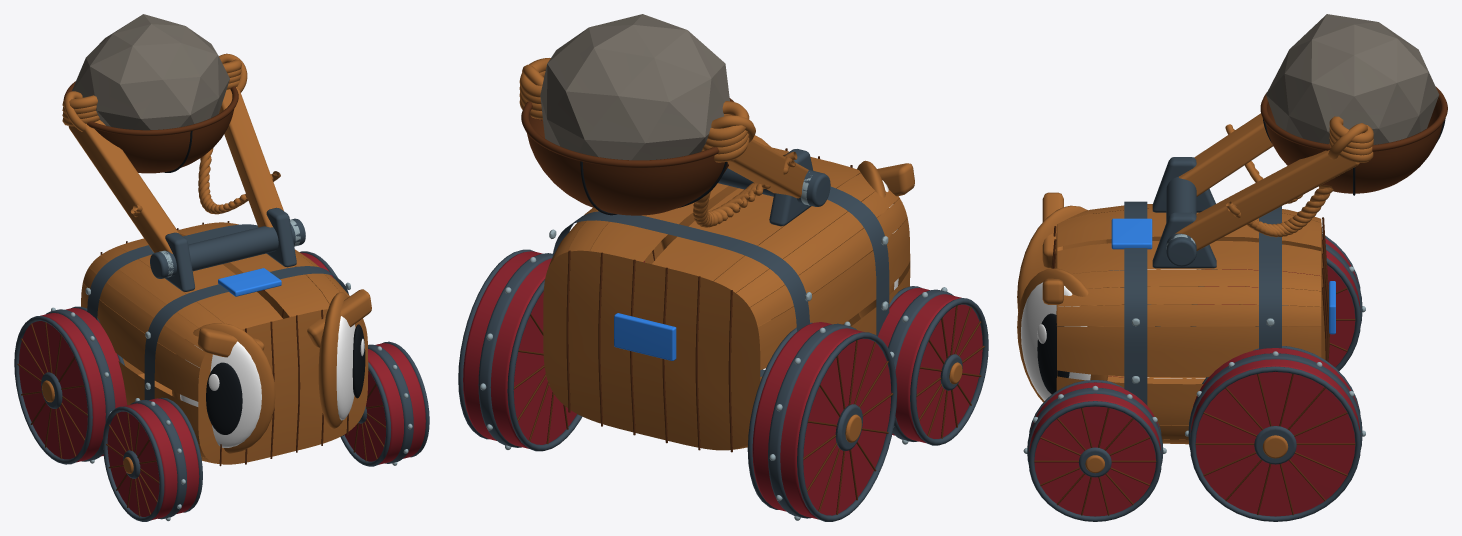
File: Catapult.fbx
3 views of the same model, side by side, from view 1: azimuth 30°, elevation 25°; view 2: azimuth 150°, elevation 25°; view 3: azimuth 270°, elevation 25° (orthographic). The views are drawn at different scales.
Parts seen in each view (by area): view 1: Faceted loaded boulder, Oak end face.001, Red timber wheel, Red timber wheel.001, Red timber wheel.003, Raised oak sling rail, Longitudinal oak stave.009, Raised oak sling rail.001, Deep leather sling, Cross shaft, Longitudinal oak stave.005, Longitudinal oak stave.004 (+28 smaller); view 2: Oak end face, Faceted loaded boulder, Red timber wheel, Red timber wheel.002, Red timber wheel.001, Deep leather sling, Longitudinal oak stave.009, Longitudinal oak stave.005, Flat forged barrel strap, Longitudinal oak stave.006, Longitudinal oak stave.008, Longitudinal oak stave.007 (+24 smaller); view 3: Red timber wheel.002, Faceted loaded boulder, Red timber wheel.003, Longitudinal oak stave, Raised oak sling rail.001, Longitudinal oak stave.001, Longitudinal oak stave.004, Deep leather sling, Flat forged barrel strap.001, Longitudinal oak stave.002, Longitudinal oak stave.003, Raised oak sling rail (+27 smaller).
Boxes of the visible parts, left/top/right/bottom form: Faceted loaded boulder: left=72, top=14, right=229, bottom=130; Oak end face.001: left=198, top=309, right=368, bottom=464; Red timber wheel: left=19, top=308, right=126, bottom=462; Red timber wheel.001: left=107, top=398, right=199, bottom=520; Red timber wheel.003: left=344, top=343, right=425, bottom=464; Raised oak sling rail: left=68, top=120, right=179, bottom=253; Longitudinal oak stave.009: left=81, top=283, right=199, bottom=401; Raised oak sling rail.001: left=219, top=87, right=283, bottom=227; Deep leather sling: left=95, top=109, right=234, bottom=173; Cross shaft: left=150, top=218, right=305, bottom=278; Longitudinal oak stave.005: left=118, top=238, right=282, bottom=329; Longitudinal oak stave.004: left=177, top=223, right=329, bottom=316; Oak end face: left=543, top=250, right=760, bottom=450; Faceted loaded boulder: left=540, top=14, right=729, bottom=160; Red timber wheel: left=752, top=322, right=891, bottom=519; Red timber wheel.002: left=463, top=251, right=576, bottom=448; Red timber wheel.001: left=878, top=287, right=982, bottom=443; Deep leather sling: left=527, top=113, right=728, bottom=215; Longitudinal oak stave.009: left=758, top=218, right=910, bottom=369; Longitudinal oak stave.005: left=652, top=157, right=860, bottom=280; Flat forged barrel strap: left=552, top=211, right=809, bottom=447; Longitudinal oak stave.006: left=714, top=173, right=874, bottom=292; Longitudinal oak stave.008: left=750, top=198, right=907, bottom=326; Longitudinal oak stave.007: left=736, top=189, right=899, bottom=306; Red timber wheel.002: left=1190, top=348, right=1360, bottom=516; Faceted loaded boulder: left=1266, top=14, right=1439, bottom=144; Red timber wheel.003: left=1029, top=382, right=1161, bottom=516; Longitudinal oak stave: left=1057, top=326, right=1321, bottom=377; Raised oak sling rail.001: left=1175, top=144, right=1359, bottom=250; Longitudinal oak stave.001: left=1057, top=304, right=1321, bottom=326; Longitudinal oak stave.004: left=1057, top=241, right=1321, bottom=275; Deep leather sling: left=1265, top=99, right=1442, bottom=193; Flat forged barrel strap.001: left=1124, top=201, right=1147, bottom=405; Longitudinal oak stave.002: left=1057, top=286, right=1321, bottom=306; Longitudinal oak stave.003: left=1072, top=269, right=1321, bottom=290; Raised oak sling rail: left=1179, top=113, right=1272, bottom=196.
Bounding box in the file's own units: 285 × 373 × 339.
